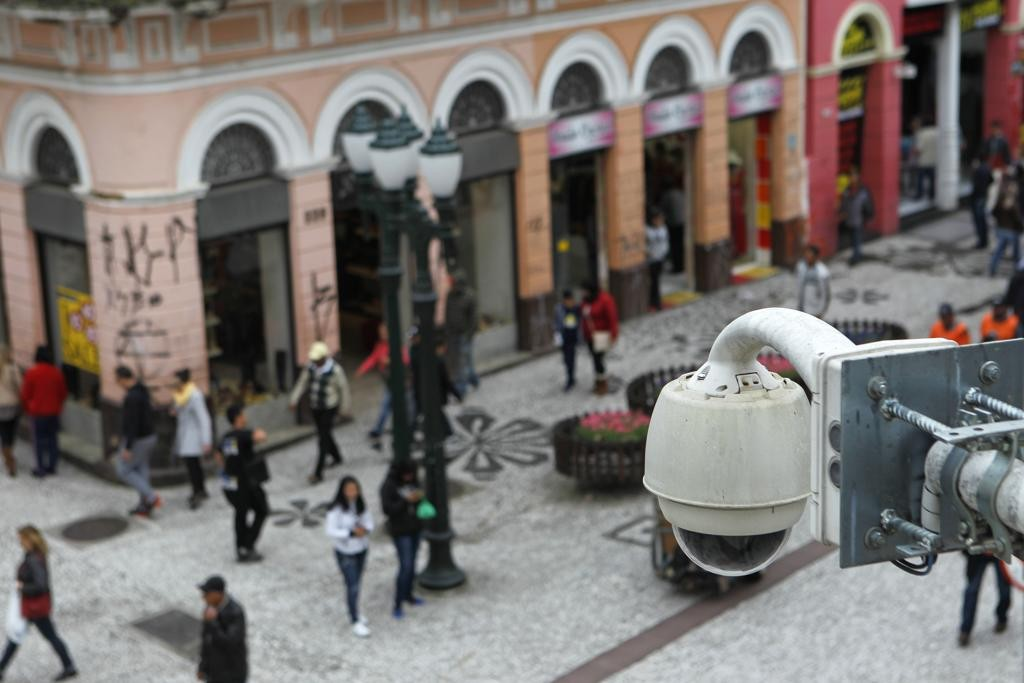Humano: (6, 520, 85, 679), (217, 397, 283, 562), (103, 359, 165, 519), (319, 472, 381, 630), (381, 458, 433, 614), (287, 339, 351, 465), (189, 572, 261, 681), (172, 366, 221, 511), (24, 345, 69, 476), (418, 339, 474, 441), (366, 317, 409, 436), (954, 555, 1006, 648), (443, 266, 482, 389), (840, 166, 880, 271), (578, 283, 617, 388), (640, 199, 674, 311), (790, 237, 834, 311), (548, 284, 583, 374), (964, 154, 991, 254), (925, 303, 966, 345), (983, 295, 1016, 334)
